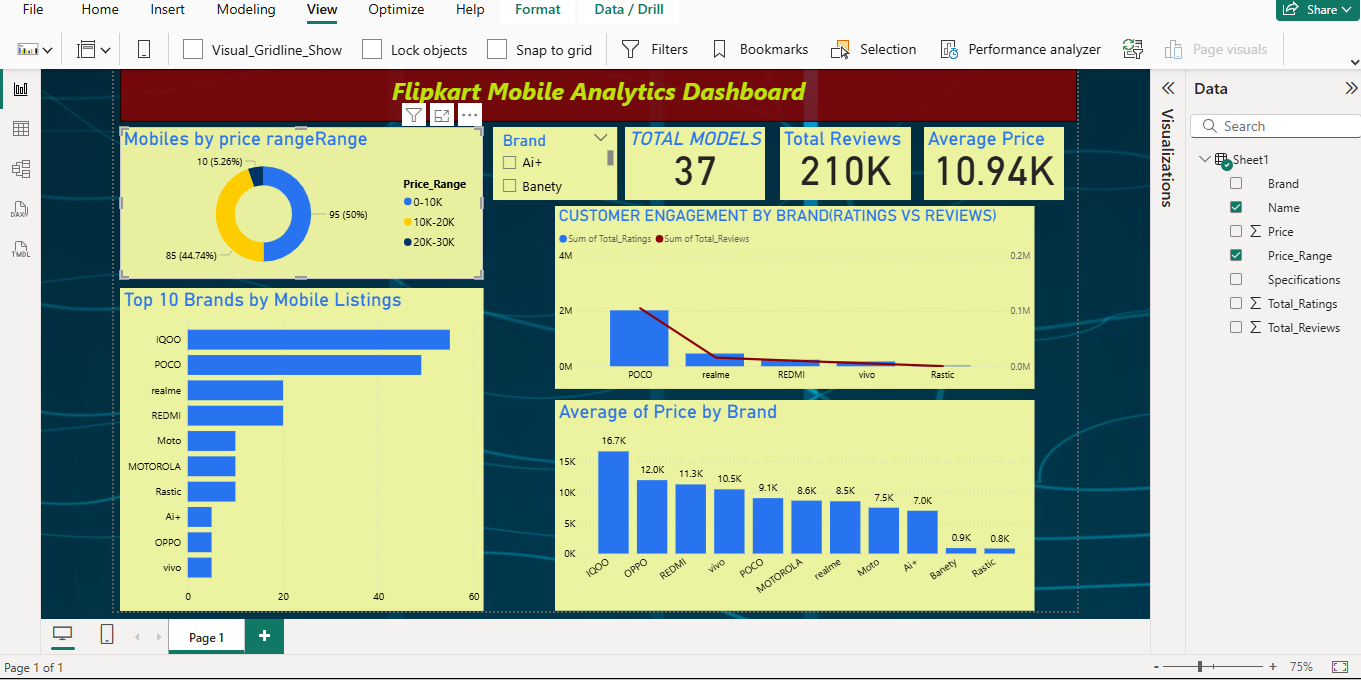

What the dashboard file says about the page in this screenshot:
{"tool":"powerbi","page":{"name":"Page 1","canvas":[1280,720],"ordinal":0},"visuals":[{"type":"donutChart","title":"Mobiles by price rangeRange","fields":{"Y":["CountNonNull(Sheet1.Name)"],"Category":["Sheet1.Price_Range"]},"box":[8,77,482.2,201.9],"z":0},{"type":"barChart","title":"Top 10 Brands by Mobile Listings","fields":{"Category":["Sheet1.Brand"],"Y":["CountNonNull(Sheet1.Name)"]},"box":[8.6,291.4,482.9,428.6],"z":1000},{"type":"clusteredColumnChart","fields":{"Category":["Sheet1.Brand"],"Y":["Avg(Sheet1.Price)"]},"box":[585.7,440,637.1,280],"z":2000},{"type":"lineClusteredColumnComboChart","title":"CUSTOMER ENGAGEMENT BY BRAND(RATINGS VS REVIEWS)","fields":{"Category":["Sheet1.Brand"],"Y":["Sum(Sheet1.Total_Ratings)"],"Y2":["Sum(Sheet1.Total_Reviews)"]},"box":[585.7,181.4,637.1,242.9],"z":3000},{"type":"slicer","fields":{"Values":["Sheet1.Brand"]},"box":[503.5,77,164.7,97],"z":5000},{"type":"card","title":"Average Price","fields":{"Values":["Avg(Sheet1.Price)"]},"box":[1075.7,77.1,185.7,97.1],"z":6000},{"type":"card","title":"TOTAL MODELS","fields":{"Values":["Count(Sheet1.Name)"]},"box":[678.8,77,186,97],"z":7000},{"type":"card","title":"Total Reviews","fields":{"Values":["Sum(Sheet1.Total_Reviews)"]},"box":[884.7,77,174,97],"z":7001},{"type":"textbox","box":[8.6,0,1271.4,70],"z":7002}]}

Visuals, with their boxes on the page's 1280x720 design canvas (x1, y1, x2, y2). These are canvas units, not pixel positions in the 1361x680 screenshot, which may show the page scaled, cropped or inside an application window:
"Mobiles by price rangeRange" donutChart: Rect(8, 77, 490, 279)
"Top 10 Brands by Mobile Listings" barChart: Rect(9, 291, 492, 720)
clusteredColumnChart - Sheet1.Brand x Avg(Sheet1.Price): Rect(586, 440, 1223, 720)
"CUSTOMER ENGAGEMENT BY BRAND(RATINGS VS REVIEWS)" lineClusteredColumnComboChart: Rect(586, 181, 1223, 424)
slicer - Sheet1.Brand: Rect(504, 77, 668, 174)
"Average Price" card: Rect(1076, 77, 1261, 174)
"TOTAL MODELS" card: Rect(679, 77, 865, 174)
"Total Reviews" card: Rect(885, 77, 1059, 174)
textbox: Rect(9, 0, 1280, 70)
